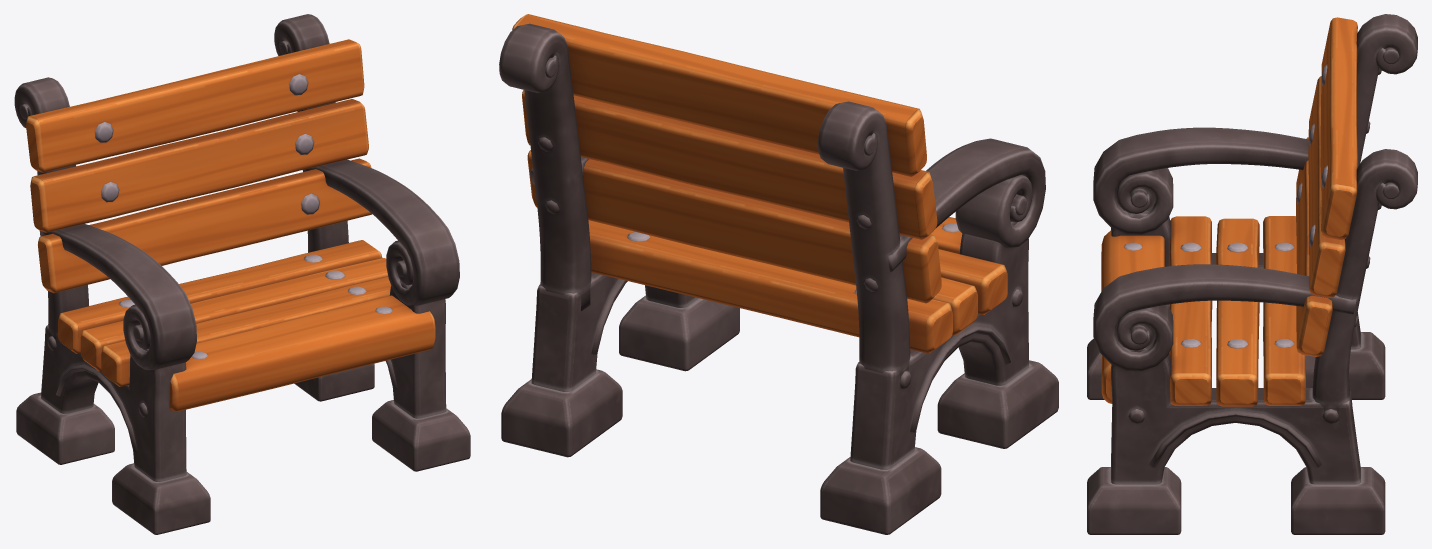
The model's file is bench_park_short.glb.
3 views of the same model, side by side, from view 1: azimuth 30°, elevation 25°; view 2: azimuth 150°, elevation 25°; view 3: azimuth 270°, elevation 25° (orthographic). The views are drawn at different scales.
Visible parts, largest first — view 1: model; view 2: model; view 3: model.
Boxes of the visible parts, bbox=[...] form: model: bbox=[14, 14, 470, 534]; model: bbox=[499, 14, 1058, 534]; model: bbox=[1087, 14, 1417, 534].
Bounding box in the file's own units: 0.8598 × 0.8623 × 0.7046.
Materials: 2 (2 with a texture image).
